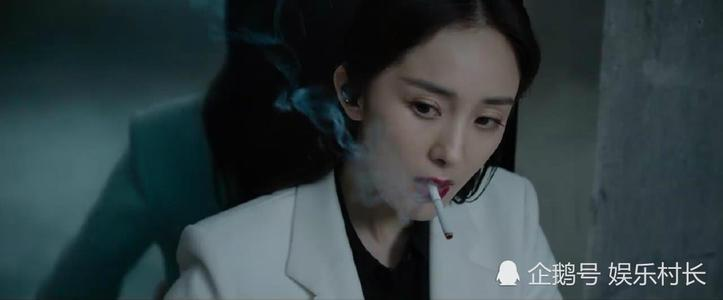smoke: (423, 178, 457, 242)
